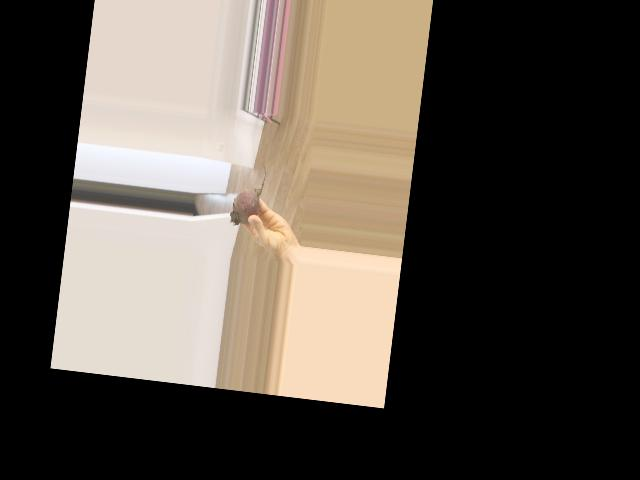beet: (229, 159, 267, 227)
